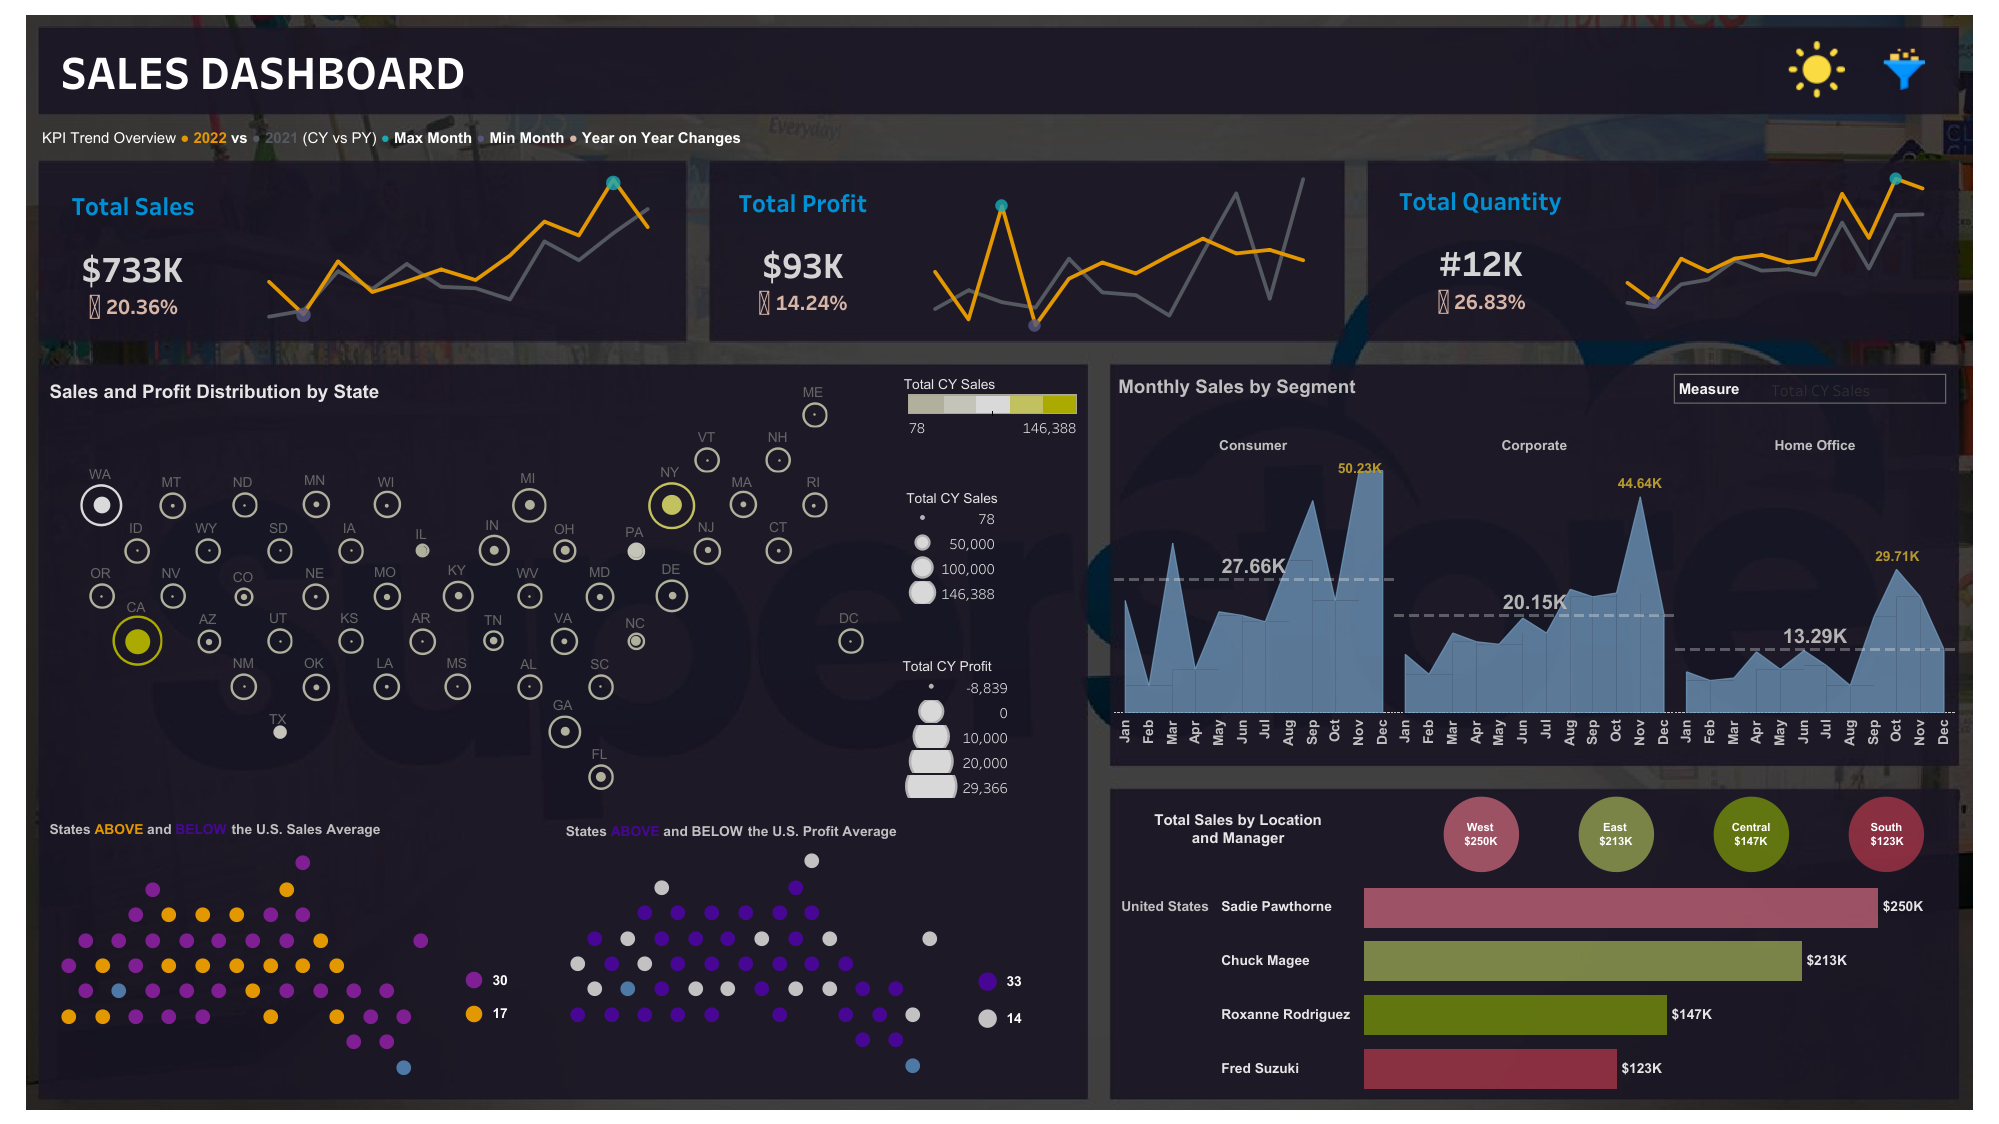

What the dashboard file says about the page in this screenshot:
{"tool":"tableau","page":{"name":"Sales Dashboard","canvas":[1600,900],"ordinal":0},"visuals":[{"type":"image","param":"C:/Users/Admin/Desktop/Sales Dashboard Background.jpg","box":[8,8,1584,884]},{"type":"text","box":[46,32,565,48]},{"type":"dashboard-object","box":[1428,33,51,45]},{"type":"dashboard-object","box":[1507,38,33,35]},{"type":"filter","title":"Sales and Profit by State","param":"[federated.00nziyr0sf8bt815r23ru0shxvcb].[none:Category:nk]","box":[1356,71,177,61]},{"type":"text","box":[31,92,714,35]},{"type":"worksheet","title":"Qty KPI","mark":"Automatic","box":[1095,129,181,141]},{"type":"worksheet","title":"Qty Sparkline","mark":"Automatic","rows":["Min Max Profit (copy)_1144195847204610062"],"cols":["Order Date"],"box":[1276,129,287,141]},{"type":"worksheet","title":"Sales KPI","mark":"Automatic","box":[31,131,152,146]},{"type":"worksheet","title":"Sales Sparkline","mark":"Automatic","rows":["Calculation_1144195847191793676"],"cols":["Order Date"],"box":[183,131,366,146]},{"type":"worksheet","title":"Profit KPI","mark":"Automatic","box":[569,131,148,139]},{"type":"worksheet","title":"Profit Sparkline","mark":"Automatic","rows":["Min Max month (copy)_1144195847201034253"],"cols":["Order Date"],"box":[717,131,356,139]},{"type":"filter","title":"Sales and Profit by State","param":"[federated.00nziyr0sf8bt815r23ru0shxvcb].[none:Region:nk]","box":[1356,132,177,61]},{"type":"filter","title":"Sales and Profit by State","param":"[federated.00nziyr0sf8bt815r23ru0shxvcb].[none:Ship Mode:nk]","box":[1356,193,177,60]},{"type":"text","box":[892,294,235,30]},{"type":"worksheet","title":"Sales and Profit by State","mark":"Circle","rows":["Row"],"cols":["Column","Column"],"box":[35,295,685,363]},{"type":"legend","title":"Sales and Profit by State","param":"[federated.00nziyr0sf8bt815r23ru0shxvcb].[sum:Calculation_1144195847143759872:qk","box":[723,297,143,86]},{"type":"text","box":[37,298,359,30]},{"type":"parameter","param":"[Parameters].[Parameter 1]","box":[1339,299,218,24]},{"type":"worksheet","title":"Monthly Sales by Segment","mark":"Area","rows":["Calculation_118501032310665216"],"cols":["Segment","Order Date"],"box":[891,346,673,264]},{"type":"legend","title":"Sales and Profit by State","param":"[federated.00nziyr0sf8bt815r23ru0shxvcb].[sum:Calculation_1144195847143759872:qk","box":[724,390,144,149]},{"type":"legend","title":"Sales and Profit by State","param":"[federated.00nziyr0sf8bt815r23ru0shxvcb].[sum:Total CY Sales (copy)_114419584715","box":[721,525,143,158]},{"type":"worksheet","title":"Region Wise Sales","mark":"Circle","cols":["Region"],"box":[1130,632,433,70]},{"type":"text","box":[893,636,195,53]},{"type":"text","box":[37,648,368,30]},{"type":"text","box":[450,650,352,30]},{"type":"worksheet","title":"Avg Profit by States","mark":"Circle","rows":["Row"],"cols":["Column"],"box":[442,669,321,204]},{"type":"worksheet","title":"Avg Sales by States","mark":"Circle","rows":["Row"],"cols":["Column"],"box":[35,670,321,204]},{"type":"worksheet","title":"Total Sales by Location and Manager","mark":"Automatic","rows":["Country/Region","Regional Manager (People1)"],"cols":["Calculation_1144195847143759872"],"box":[891,704,673,172]},{"type":"worksheet","title":"Avg Profit by State Count","mark":"Circle","rows":["Sales Avg Color (copy)_1144195847279853589"],"box":[759,770,61,59]},{"type":"worksheet","title":"Avg Sales by State Count","mark":"Circle","rows":["Calculation_1144195847276371986"],"box":[348,771,61,53]}]}

Visuals, with their boxes in screenshot pixels (x1, y1, x2, y2), scaled from the page's 1600x900 canvas onto the 1999x1124 screenshot:
image: select_region(10, 10, 1989, 1114)
text: select_region(57, 40, 763, 100)
dashboard-object: select_region(1784, 41, 1848, 97)
dashboard-object: select_region(1883, 47, 1924, 91)
"Sales and Profit by State" filter: select_region(1694, 89, 1915, 165)
text: select_region(39, 115, 931, 159)
"Qty KPI" worksheet: select_region(1368, 161, 1594, 337)
"Qty Sparkline" worksheet: select_region(1594, 161, 1953, 337)
"Sales KPI" worksheet: select_region(39, 164, 229, 346)
"Sales Sparkline" worksheet: select_region(229, 164, 686, 346)
"Profit KPI" worksheet: select_region(711, 164, 896, 337)
"Profit Sparkline" worksheet: select_region(896, 164, 1341, 337)
"Sales and Profit by State" filter: select_region(1694, 165, 1915, 241)
"Sales and Profit by State" filter: select_region(1694, 241, 1915, 316)
text: select_region(1114, 367, 1408, 405)
"Sales and Profit by State" worksheet (Circle marks): select_region(44, 368, 900, 822)
"Sales and Profit by State" legend: select_region(903, 371, 1082, 478)
text: select_region(46, 372, 495, 410)
parameter: select_region(1673, 373, 1945, 403)
"Monthly Sales by Segment" worksheet (Area marks): select_region(1113, 432, 1954, 762)
"Sales and Profit by State" legend: select_region(905, 487, 1084, 673)
"Sales and Profit by State" legend: select_region(901, 656, 1079, 853)
"Region Wise Sales" worksheet (Circle marks): select_region(1412, 789, 1953, 877)
text: select_region(1116, 794, 1359, 860)
text: select_region(46, 809, 506, 847)
text: select_region(562, 812, 1002, 849)
"Avg Profit by States" worksheet (Circle marks): select_region(552, 836, 953, 1090)
"Avg Sales by States" worksheet (Circle marks): select_region(44, 837, 445, 1092)
"Total Sales by Location and Manager" worksheet: select_region(1113, 879, 1954, 1094)
"Avg Profit by State Count" worksheet (Circle marks): select_region(948, 962, 1024, 1035)
"Avg Sales by State Count" worksheet (Circle marks): select_region(435, 963, 511, 1029)
